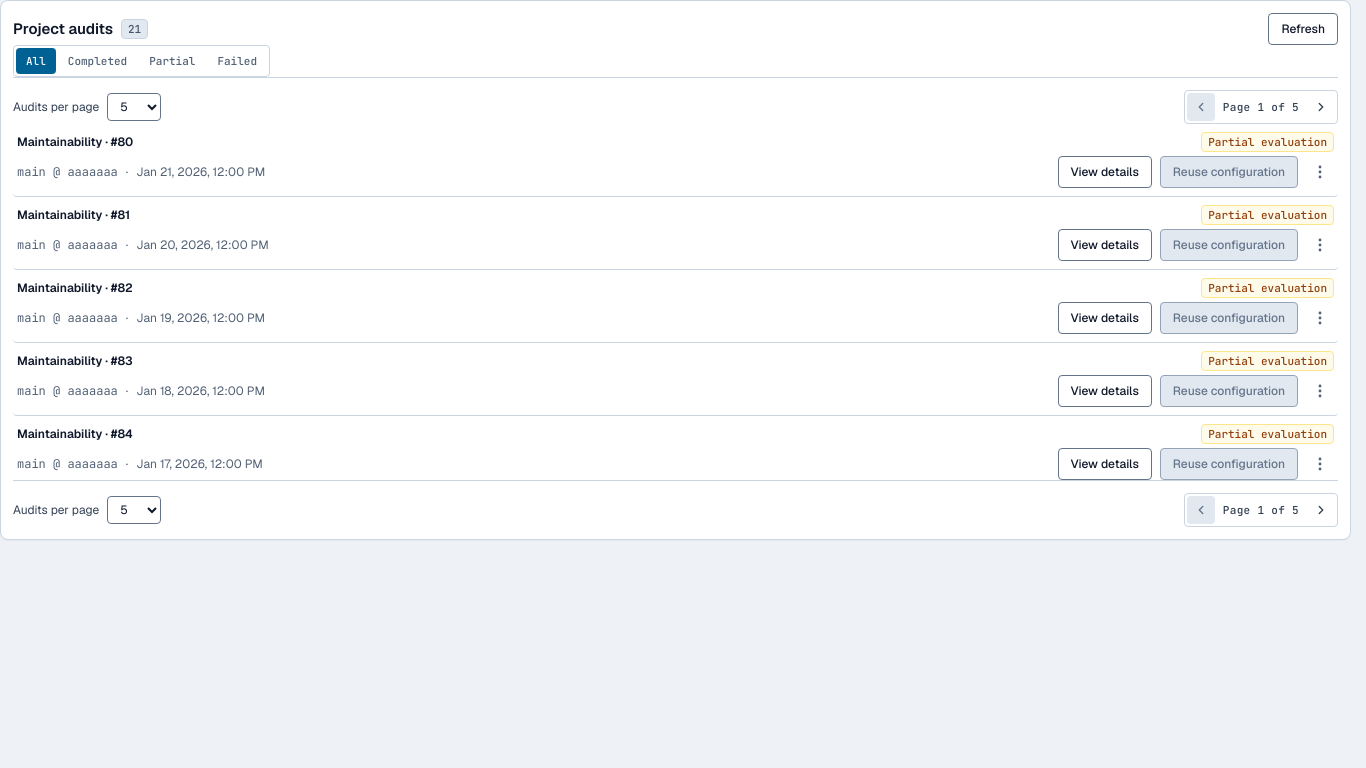
it: project quality audits › allows 5 records per page and resets to the first page
The image size is (1366, 768).
Click the 1st button named "Next page" at (1321, 107), box top-left (1307, 93), bottom-right (1335, 121)
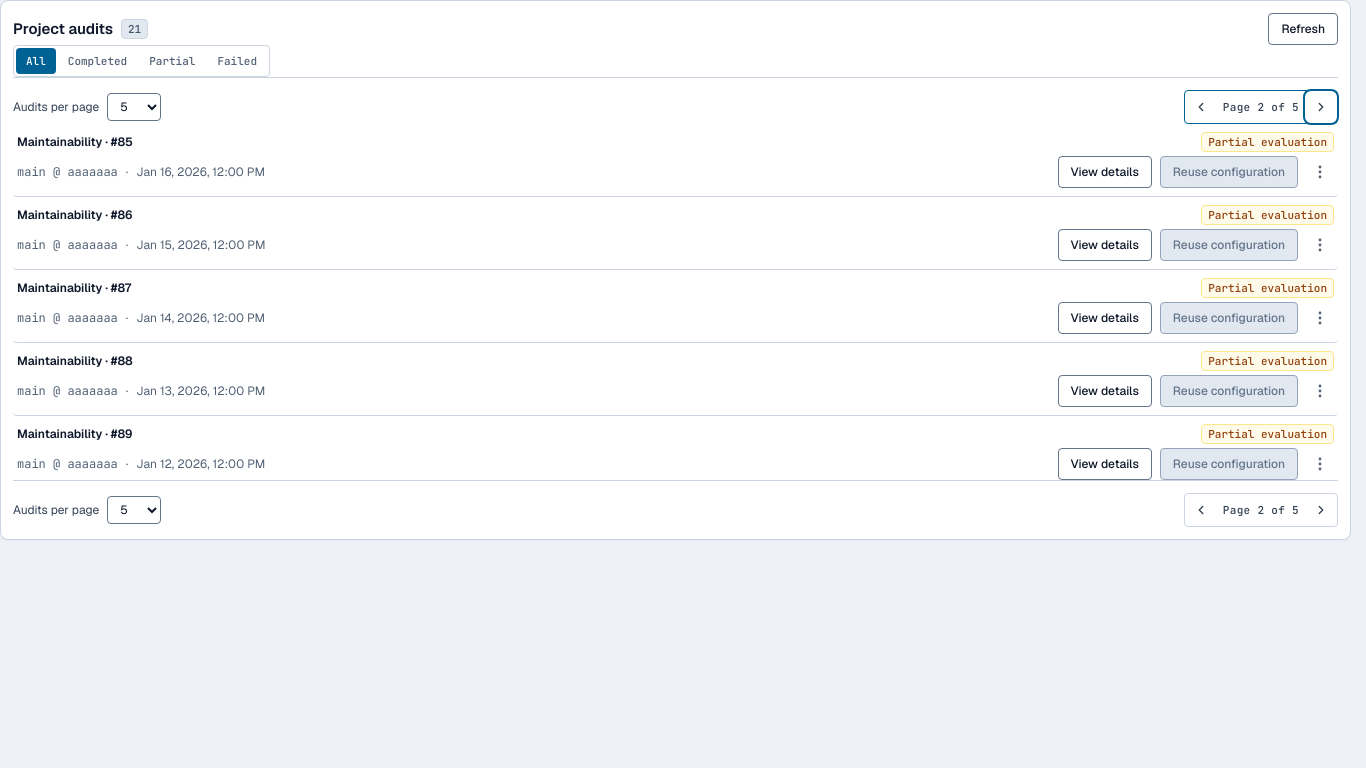
Select "5" in the 2nd dropdown labelled "Audits per page" at (134, 510), box top-left (107, 496), bottom-right (161, 524)
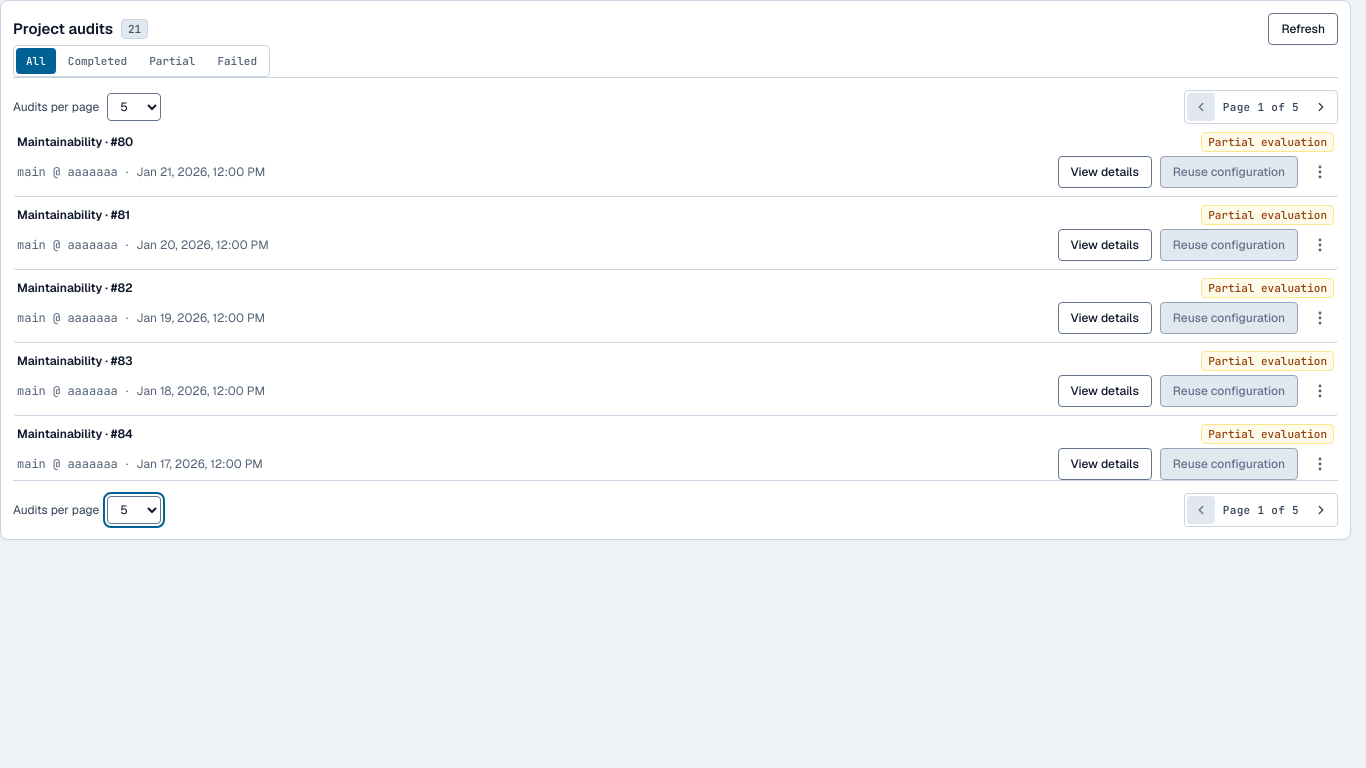
Expected: the text "Page 1 of 5" is shown 2 times, top-left (1223, 99), bottom-right (1299, 115); top-left (1223, 502), bottom-right (1299, 518)
Now the heading "Maintainability · #80" is shown, box top-left (17, 134), bottom-right (133, 150)
